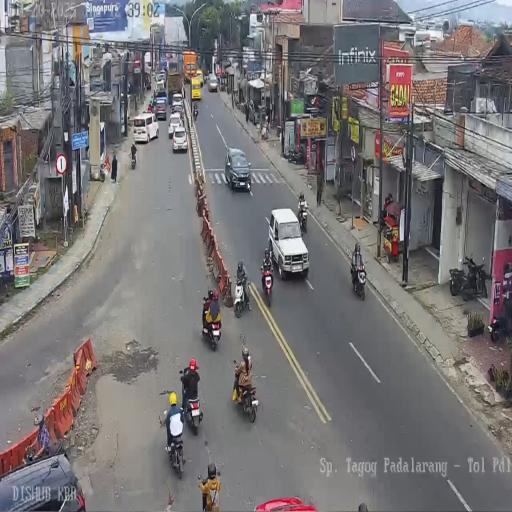car: (1, 451, 87, 510), (266, 209, 306, 279), (225, 146, 251, 192), (254, 496, 316, 512), (133, 113, 160, 145), (168, 112, 182, 140), (154, 97, 168, 121), (172, 98, 182, 115), (155, 80, 166, 95), (208, 76, 218, 92), (157, 70, 166, 83), (196, 70, 203, 86), (204, 72, 210, 84)
motorcycle: (450, 251, 489, 302), (232, 364, 258, 422), (181, 373, 202, 435), (489, 294, 512, 343), (166, 421, 185, 477), (202, 296, 222, 347), (234, 270, 251, 318), (350, 256, 367, 300), (297, 197, 308, 233), (285, 144, 303, 165), (130, 150, 136, 170), (193, 101, 198, 119), (241, 100, 245, 116)
truck: (183, 52, 198, 84), (168, 56, 178, 80)
